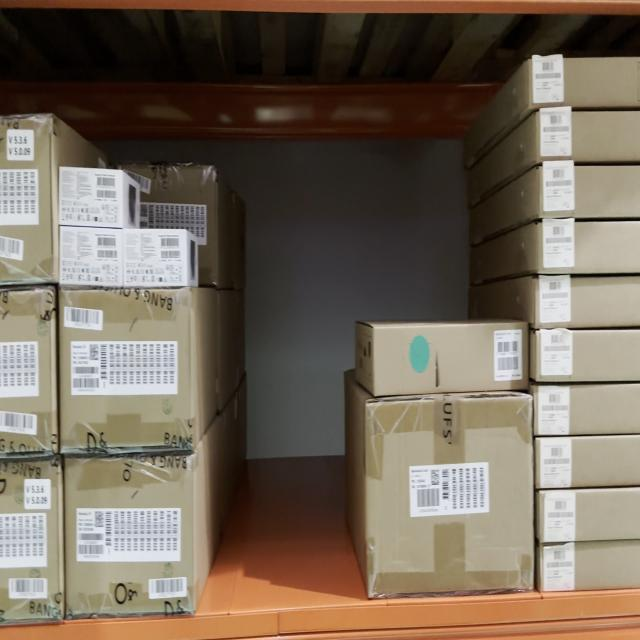box: (368, 404, 534, 596), (60, 290, 191, 447), (64, 462, 192, 609), (373, 326, 528, 390), (59, 228, 120, 283), (124, 231, 183, 284), (59, 173, 121, 223)
